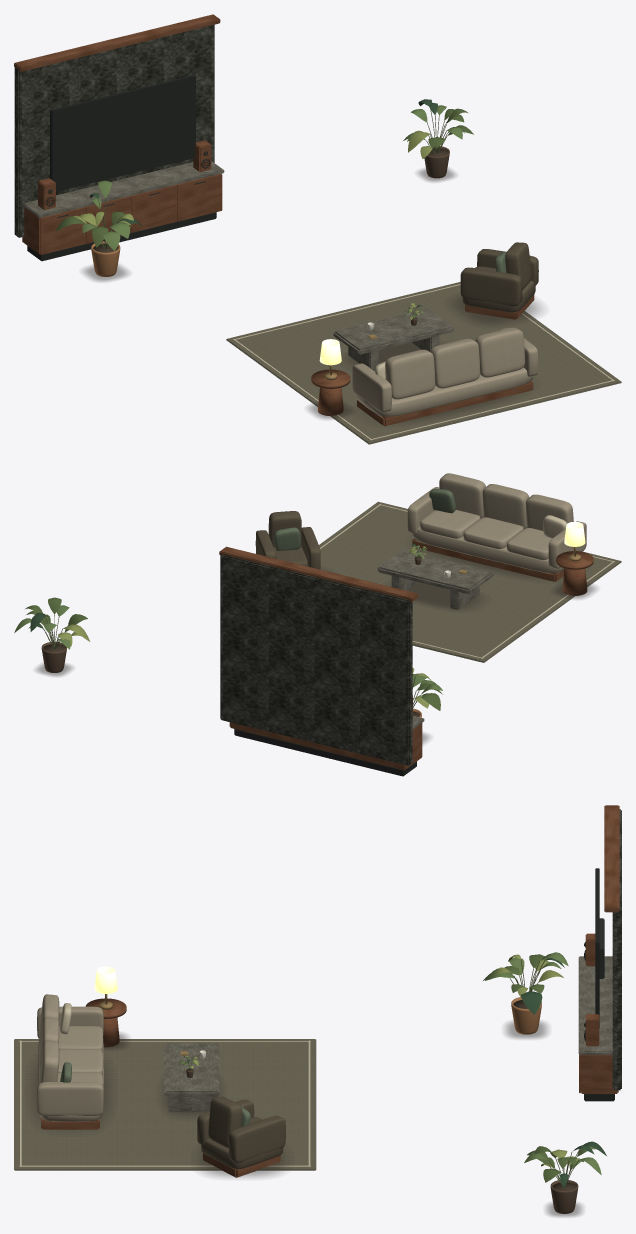
Rendered from television.glb.
The picture shows the model from 3 angles, top to bottom: view 1: azimuth 30°, elevation 25°; view 2: azimuth 150°, elevation 25°; view 3: azimuth 270°, elevation 25°; orthographic projection. The views are drawn at different scales.
Parts seen in each view (by area): view 1: M08 | Undyed rug, M01 | Honed charcoal stone, Hardware | Anthracite, M03 | Quarter-cut walnut, M08 | Oyster basketweave, M02 | Honed limestone, M08 | Umber tweed, Contact | Diffuse grounding, M08 | Natural flax, M08 | Leaf 2, M08 | Leaf 1, M08 | Leaf 3 (+2 smaller); view 2: M01 | Honed charcoal stone, M08 | Undyed rug, M08 | Oyster basketweave, M03 | Quarter-cut walnut, M02 | Honed limestone, M08 | Umber tweed, Contact | Diffuse grounding, Hardware | Anthracite, M08 | Moss linen, M08 | Natural flax, M08 | Leaf 1, M08 | Leaf 2 (+3 smaller); view 3: M08 | Undyed rug, M08 | Oyster basketweave, M02 | Honed limestone, M03 | Quarter-cut walnut, M08 | Umber tweed, Contact | Diffuse grounding, M01 | Honed charcoal stone, M08 | Natural flax, Hardware | Anthracite, M08 | Leaf 1, M08 | Leaf 2, Ceramics | Burnt sienna (+4 smaller).
Part boxes in pixels (x1,y1,x2,y2): M08 | Undyed rug: (226, 282, 621, 444); M01 | Honed charcoal stone: (14, 24, 214, 237); Hardware | Anthracite: (27, 75, 216, 261); M03 | Quarter-cut walnut: (14, 14, 534, 426); M08 | Oyster basketweave: (352, 327, 537, 416); M02 | Honed limestone: (22, 161, 453, 370); M08 | Umber tweed: (460, 242, 538, 312); Contact | Diffuse grounding: (82, 168, 541, 423); M08 | Natural flax: (233, 284, 614, 440); M08 | Leaf 2: (82, 105, 462, 316); M08 | Leaf 1: (55, 108, 473, 318); M08 | Leaf 3: (73, 130, 432, 320); M01 | Honed charcoal stone: (220, 554, 412, 765); M08 | Undyed rug: (319, 501, 621, 662); M08 | Oyster basketweave: (407, 473, 586, 573); M03 | Quarter-cut walnut: (219, 539, 593, 770); M02 | Honed limestone: (377, 550, 493, 729); M08 | Umber tweed: (255, 511, 320, 569); Contact | Diffuse grounding: (36, 551, 596, 743); Hardware | Anthracite: (234, 729, 416, 776); M08 | Moss linen: (274, 488, 455, 550); M08 | Natural flax: (320, 504, 614, 658); M08 | Leaf 1: (25, 546, 442, 710); M08 | Leaf 2: (14, 545, 442, 694); M08 | Undyed rug: (14, 1039, 316, 1170); M08 | Oyster basketweave: (37, 994, 103, 1121); M02 | Honed limestone: (164, 956, 612, 1112); M03 | Quarter-cut walnut: (41, 805, 619, 1177); M08 | Umber tweed: (197, 1096, 285, 1169); Contact | Diffuse grounding: (30, 1021, 582, 1216); M01 | Honed charcoal stone: (612, 809, 621, 1090); M08 | Natural flax: (19, 1003, 310, 1166); Hardware | Anthracite: (584, 868, 614, 1101); M08 | Leaf 1: (179, 954, 576, 1182); M08 | Leaf 2: (179, 952, 601, 1174); Ceramics | Burnt sienna: (511, 997, 541, 1034).
Size of the model in its own units: 7.61 by 3.22 by 8.85.
23 materials, 9 textured.
